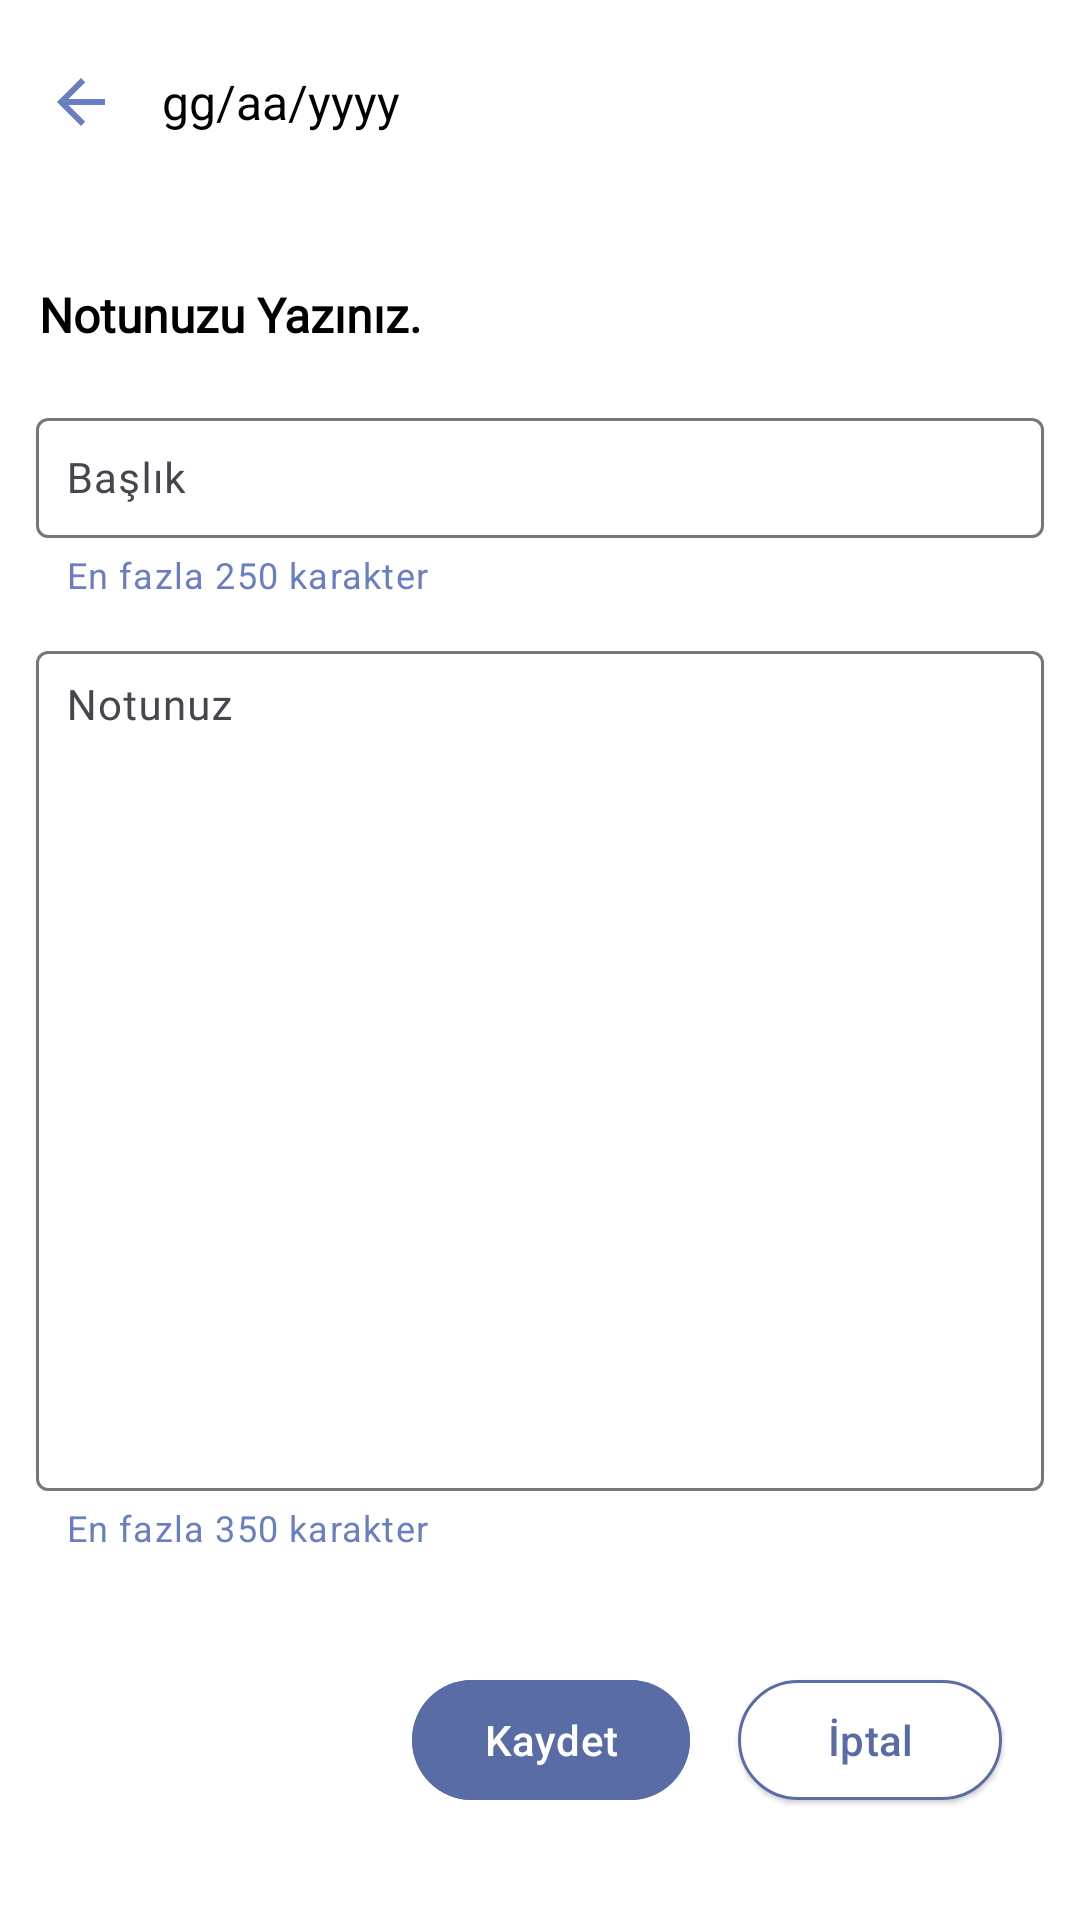

Where icons sit on this 1080w x 1920h app screen, as bbox=(x1, y1, x2, y2):
back: bbox=(57, 78, 105, 126)
